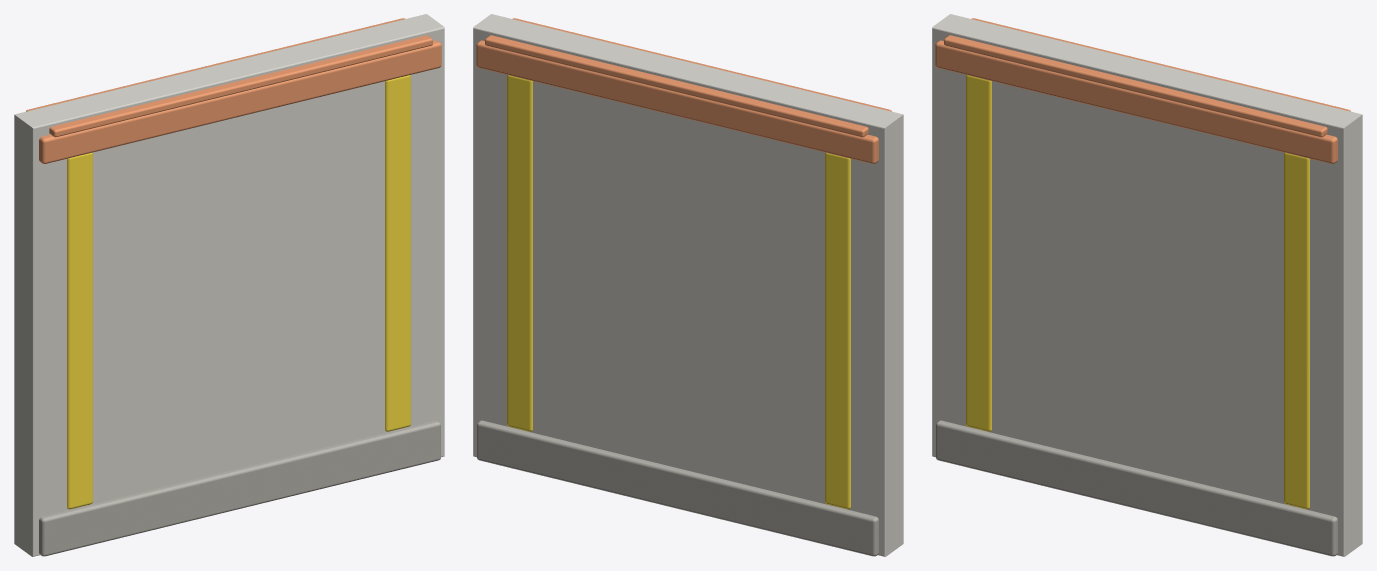
The model's file is hero-shooter-harbour-payload-wall-bay-plaster-f872298d__27690.glb.
3 views of the same model, side by side, from view 1: azimuth 30°, elevation 25°; view 2: azimuth 150°, elevation 25°; view 3: azimuth 330°, elevation 25° (orthographic).
Parts seen in each view (by area): view 1: wall-bay-plaster; view 2: wall-bay-plaster; view 3: wall-bay-plaster.
Part boxes in pixels (x1=…): wall-bay-plaster: x1=14, y1=14, x2=444, y2=556; wall-bay-plaster: x1=473, y1=14, x2=903, y2=556; wall-bay-plaster: x1=932, y1=14, x2=1362, y2=556.
Size of the model in its own units: 4.02 by 4 by 0.4999.
4 materials, 1 textured.
